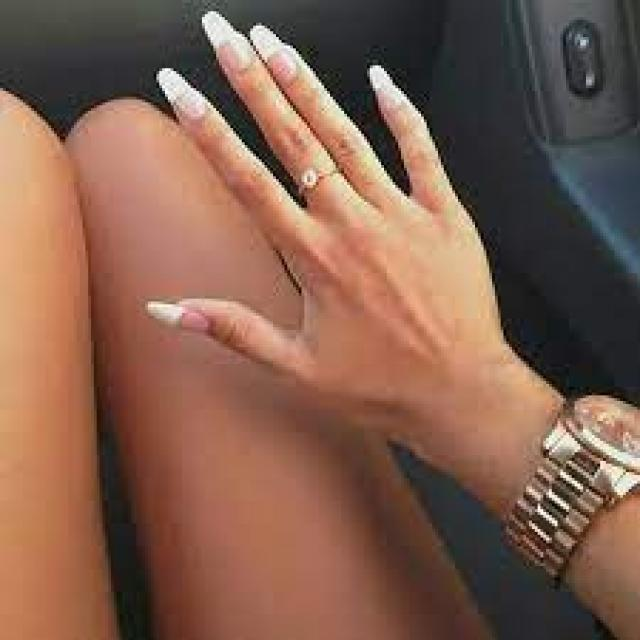bare_hand: (143, 11, 512, 454)
